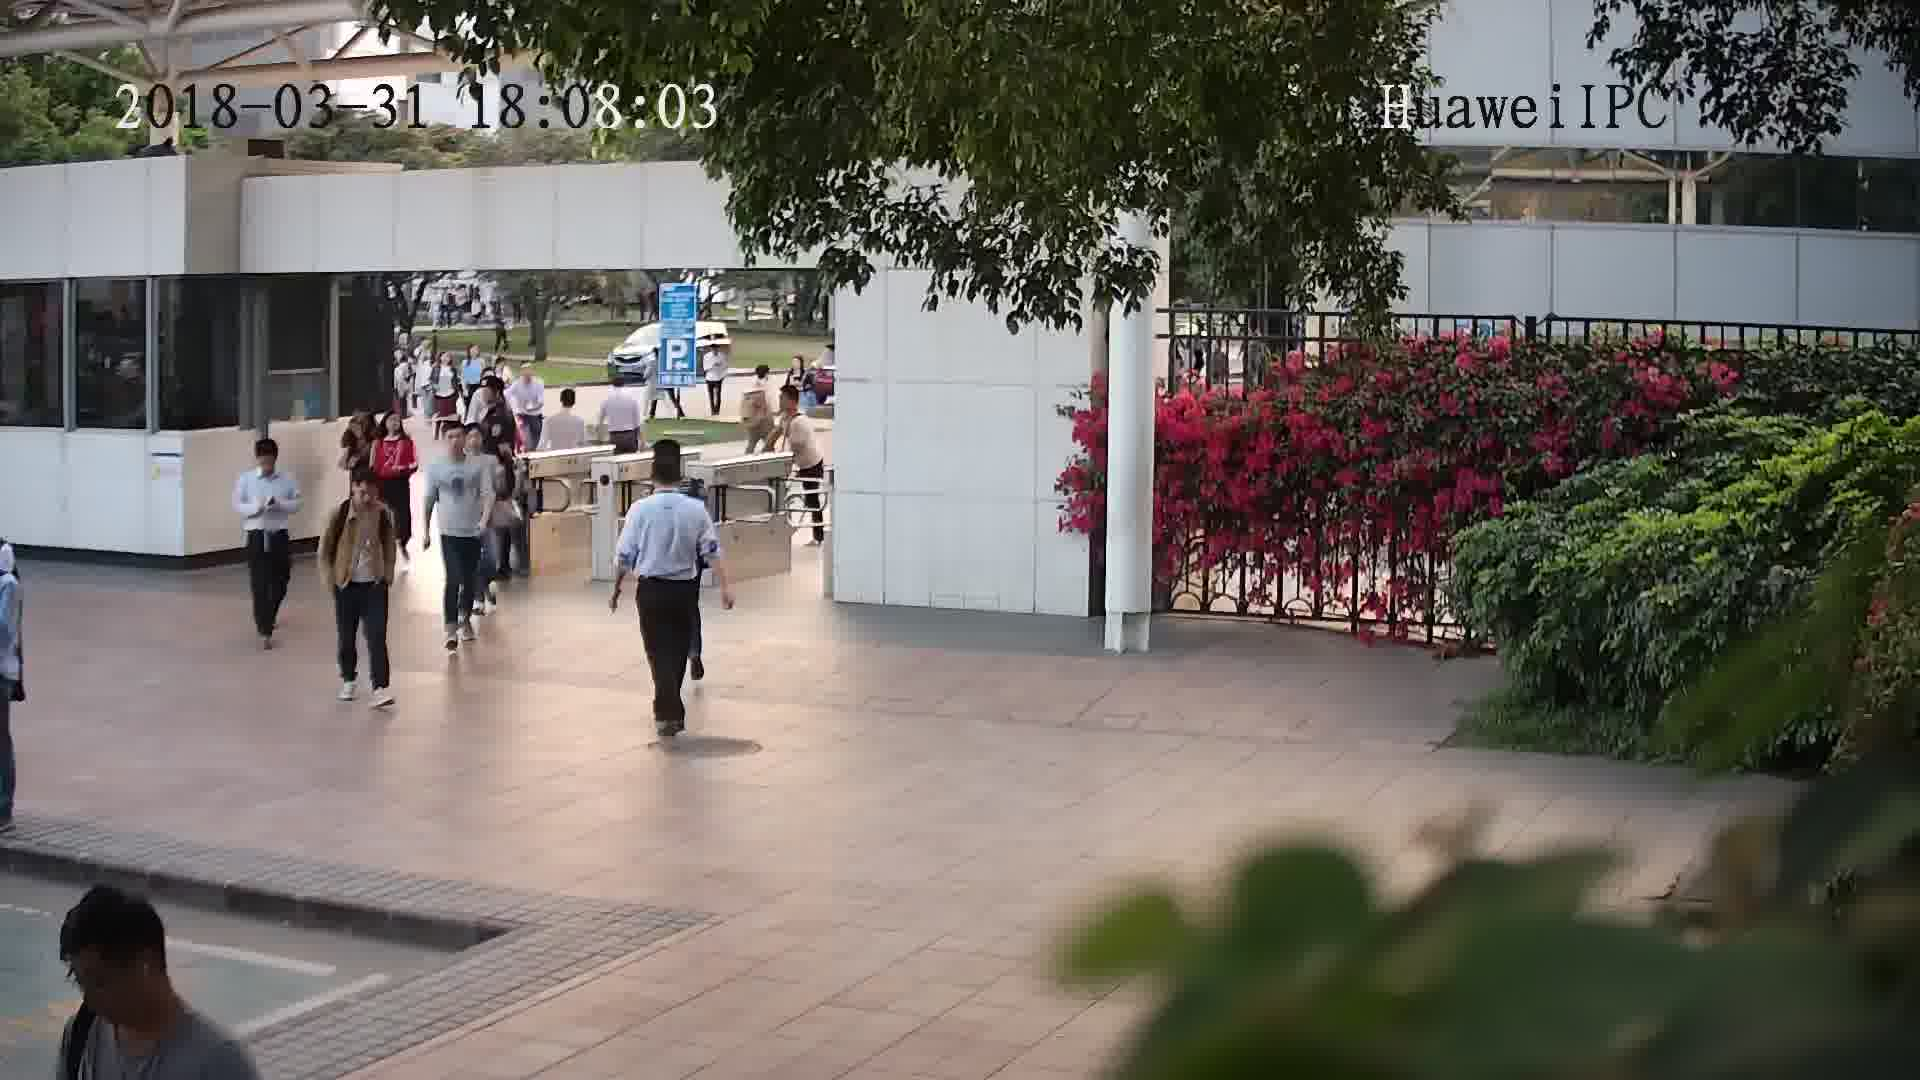face: (63, 942, 147, 1026)
person: (50, 878, 248, 1078), (626, 445, 707, 522), (330, 466, 396, 522), (236, 435, 293, 493), (436, 420, 497, 474), (369, 408, 421, 454), (474, 371, 520, 421), (546, 384, 590, 429), (460, 423, 503, 470), (773, 382, 812, 431), (0, 532, 25, 606), (601, 366, 646, 405), (509, 360, 553, 397), (428, 349, 461, 377), (786, 350, 814, 381), (459, 340, 485, 369)
